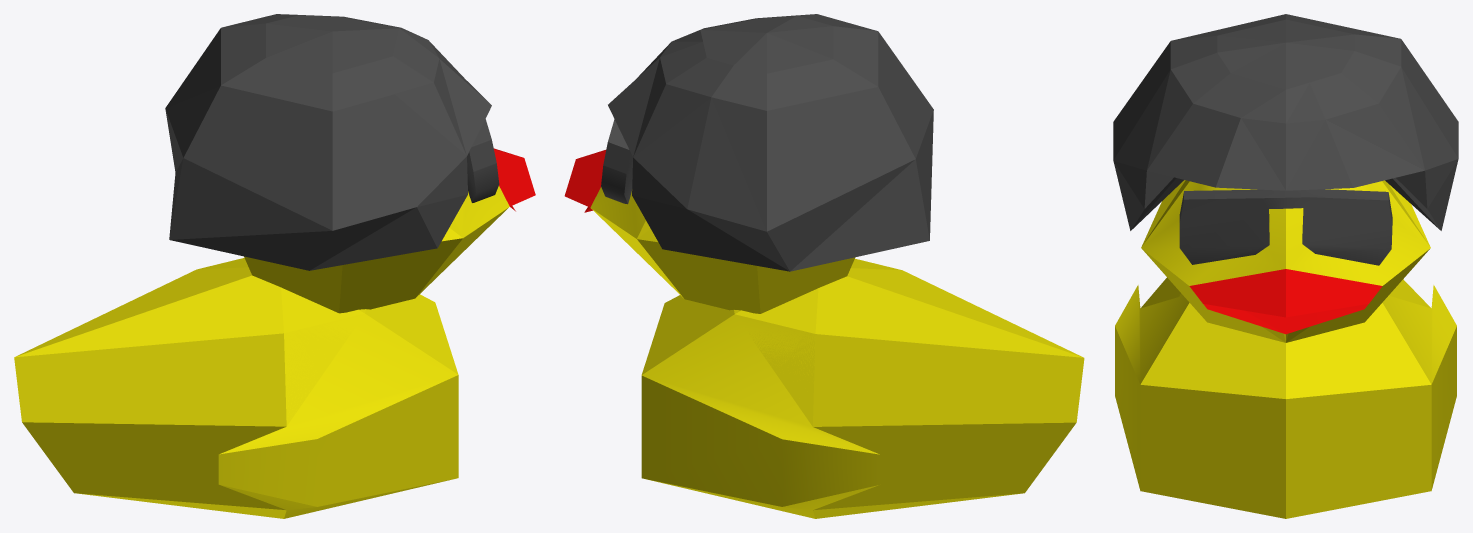
Rendered from BossAhiru.fbx.
3 renders of one model, left to right at view 1: azimuth 30°, elevation 25°; view 2: azimuth 150°, elevation 25°; view 3: azimuth 270°, elevation 25°, orthographic. The views are drawn at different scales.
Visible parts, largest first — view 1: pSphere1, polySurface4, polySurface3, pCube2; view 2: pSphere1, polySurface4, polySurface3, pCube2; view 3: pSphere1, polySurface4, polySurface3, pCube2.
Boxes of the visible parts, bbox=[...] form: pSphere1: bbox=[14, 258, 458, 518]; polySurface4: bbox=[165, 14, 491, 270]; polySurface3: bbox=[244, 148, 535, 313]; pCube2: bbox=[467, 119, 499, 202]; pSphere1: bbox=[641, 258, 1084, 518]; polySurface4: bbox=[608, 14, 933, 271]; polySurface3: bbox=[564, 150, 855, 313]; pCube2: bbox=[601, 119, 632, 204]; pSphere1: bbox=[1115, 277, 1456, 518]; polySurface4: bbox=[1113, 14, 1458, 230]; polySurface3: bbox=[1141, 180, 1430, 342]; pCube2: bbox=[1179, 189, 1392, 265].
Bounding box in the file's own units: 3.95 × 3.21 × 2.25.
